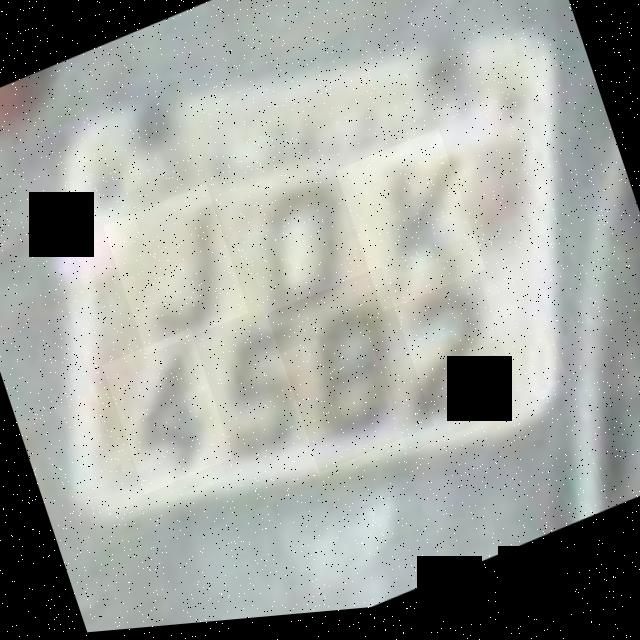2: (357, 255, 523, 464)
4: (102, 329, 234, 500)
5: (182, 304, 330, 489)
8: (267, 270, 434, 482)
J: (103, 185, 249, 361)
K: (336, 133, 486, 323)
O: (215, 154, 372, 345)
